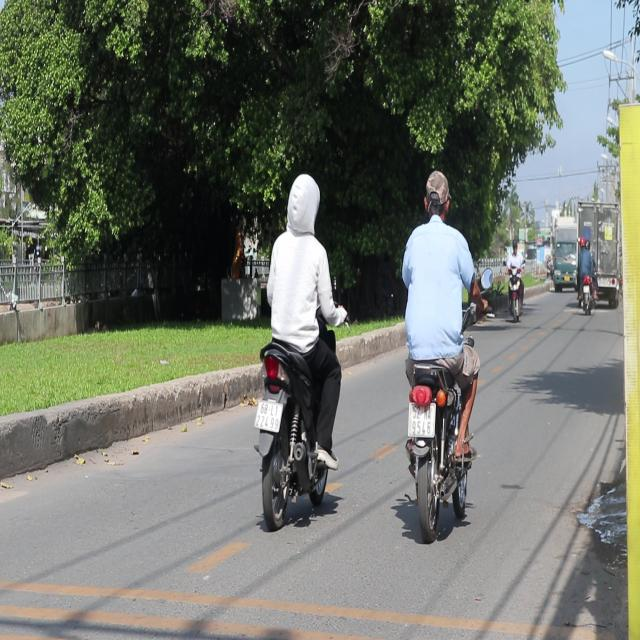helmet: (285, 172, 321, 235)
licenseplate: (250, 171, 345, 532), (395, 168, 482, 541)
motorcyclist: (422, 169, 452, 223)
nohelmet: (408, 402, 436, 437), (254, 398, 282, 430)
